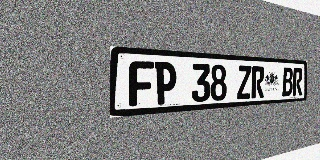3: (192, 63, 210, 102)
8: (210, 64, 227, 101)
B: (282, 67, 293, 96)
F: (129, 61, 154, 107)
P: (154, 62, 176, 105)
R: (251, 66, 264, 98), (293, 68, 303, 96)
Z: (237, 65, 251, 99)
